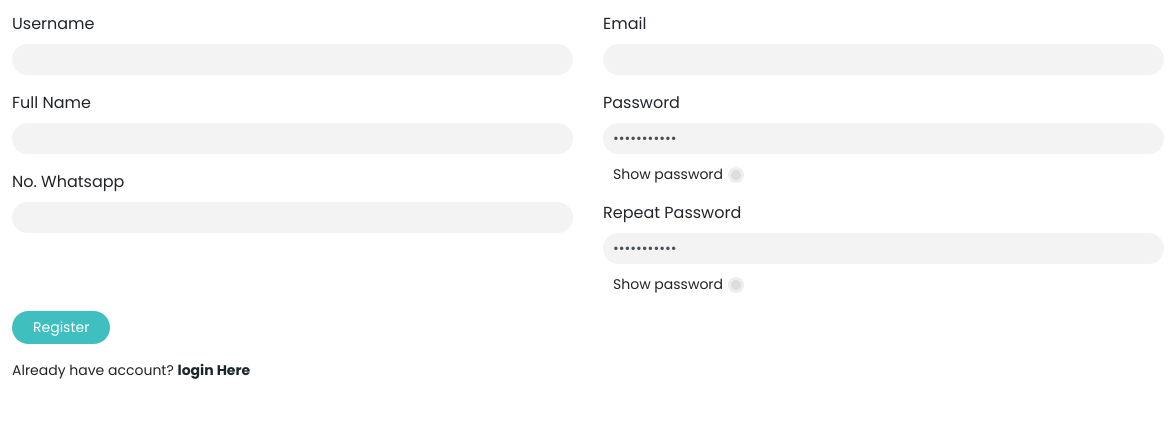
Test: Password validation test › renders an error when password validation doesn't match
Click the button "Register" at (61, 328), box [12,311,110,344]
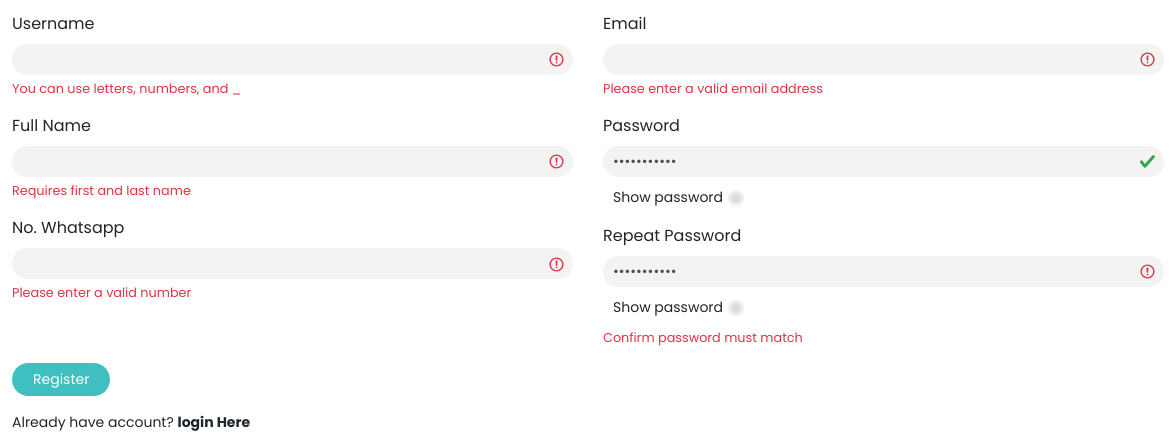
Expected: the text with class "error_password_validation" reads "Confirm password must match", [603,329,803,346]
